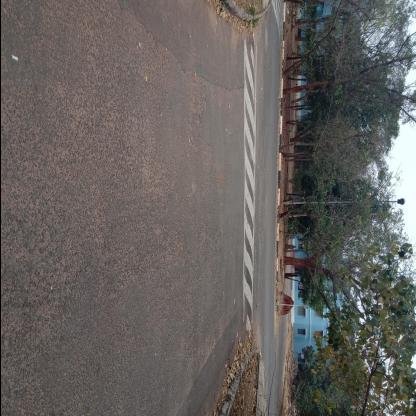speed-bumps: (234, 22, 265, 354)
